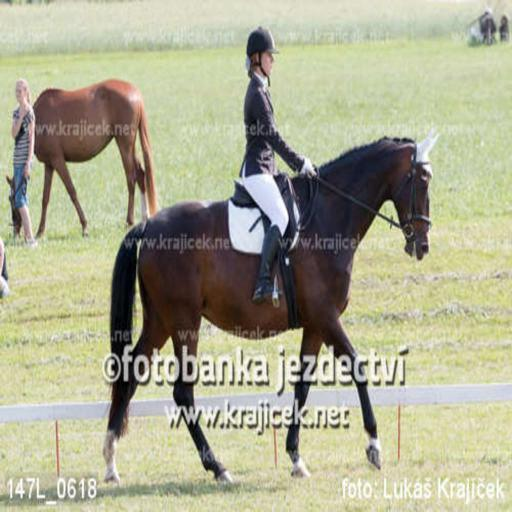horse: (98, 130, 440, 484), (3, 81, 161, 237)
